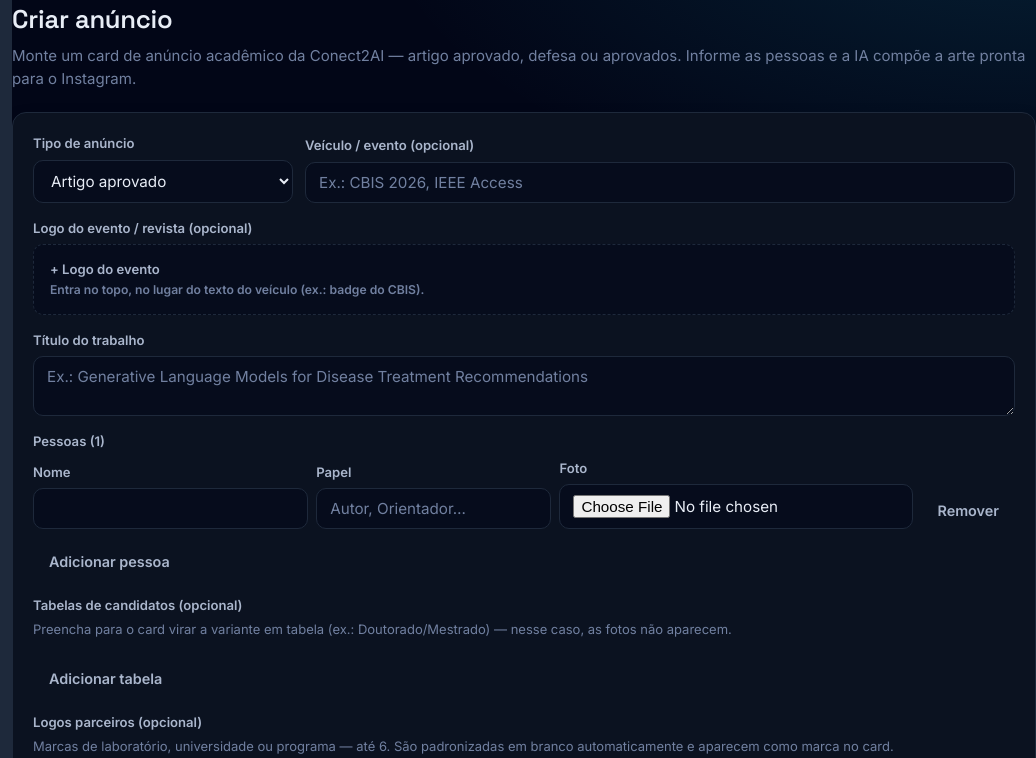
it: PaginaAnuncio › mostra alerta quando a geracao falha
Replace the text in the text box labelled "Título do trabalho" with "Título válido" at (524, 386), box [33,356,1015,416]
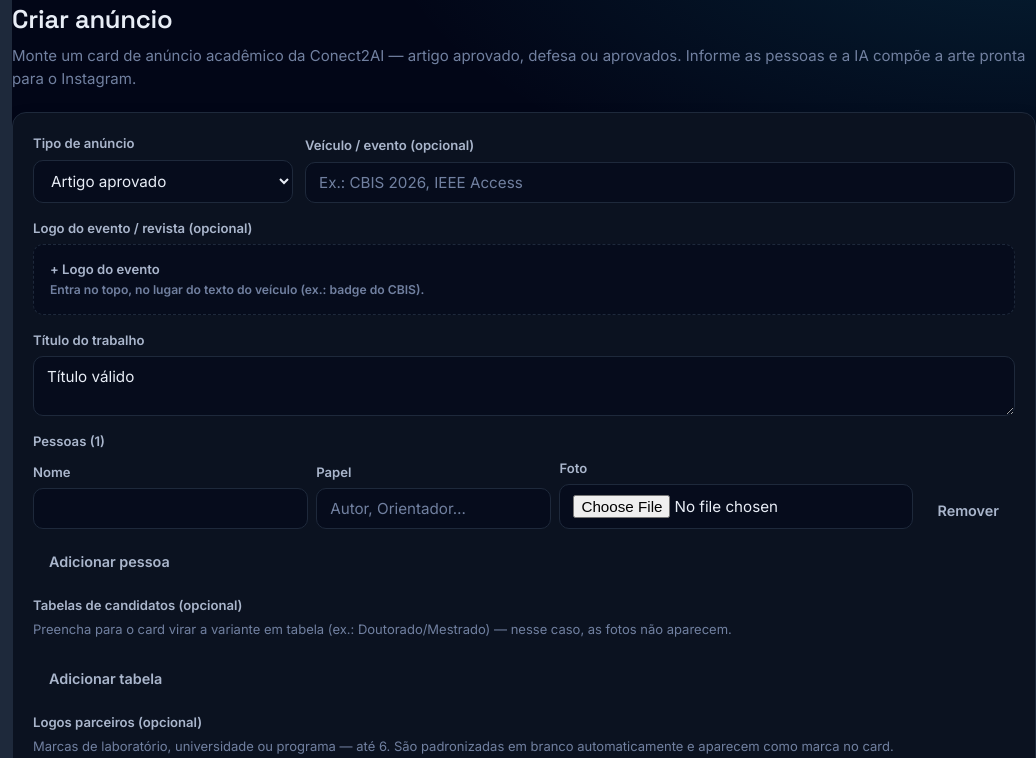
Type "Júlia" into the field labelled "Nome" at (171, 508), box [33,488,308,529]
(page scrolled)
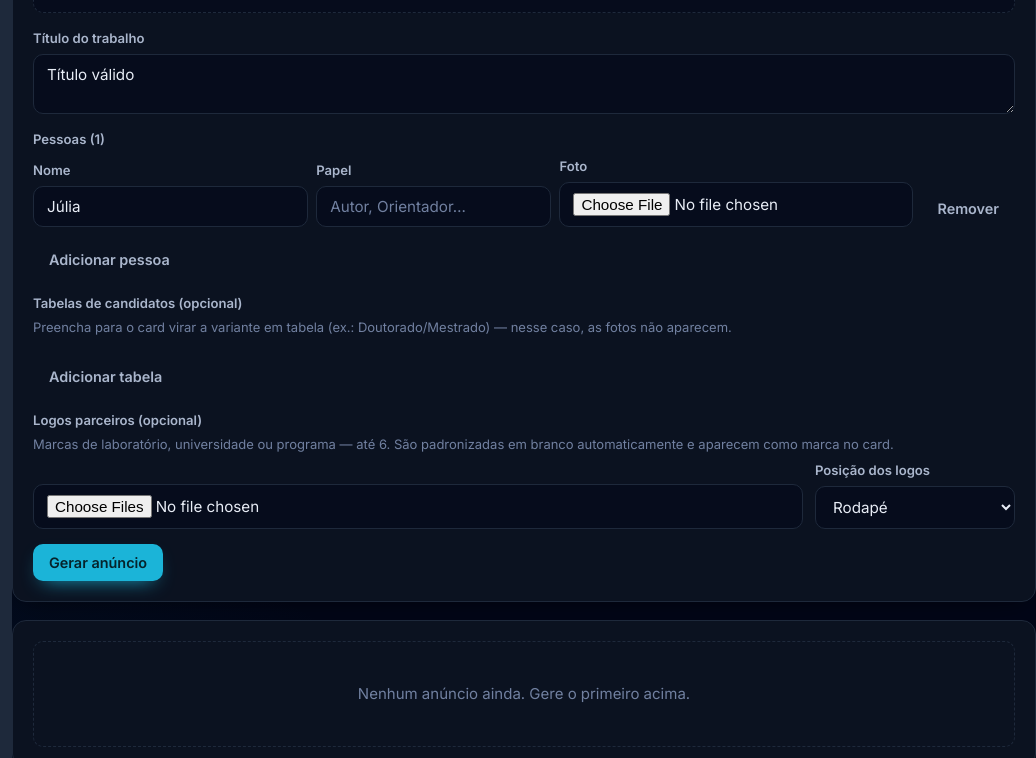
Click the button "Gerar anúncio" at (98, 563), box [33,544,163,581]
(page scrolled)
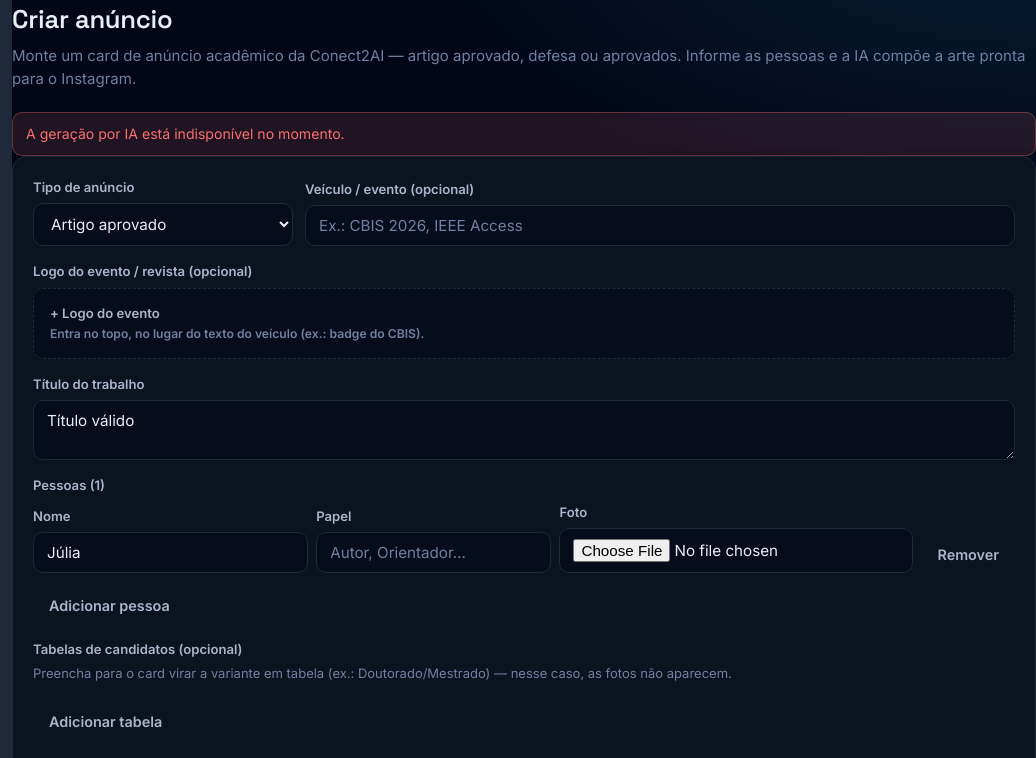
Now the message shows "indisponível", box [26,125,345,142]
